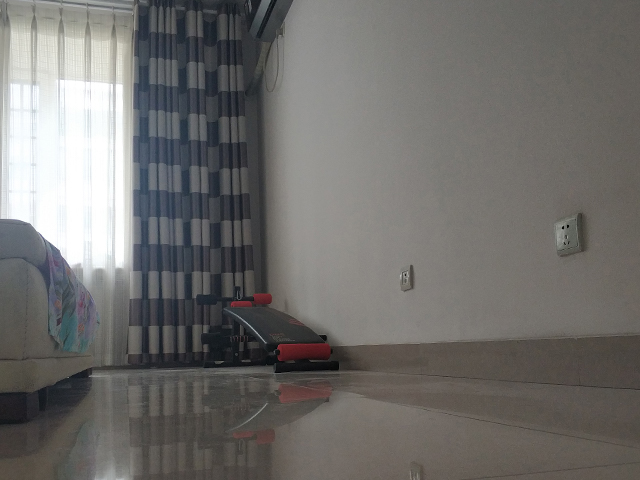bed: (1, 205, 106, 426)
curtain: (134, 1, 261, 365)
